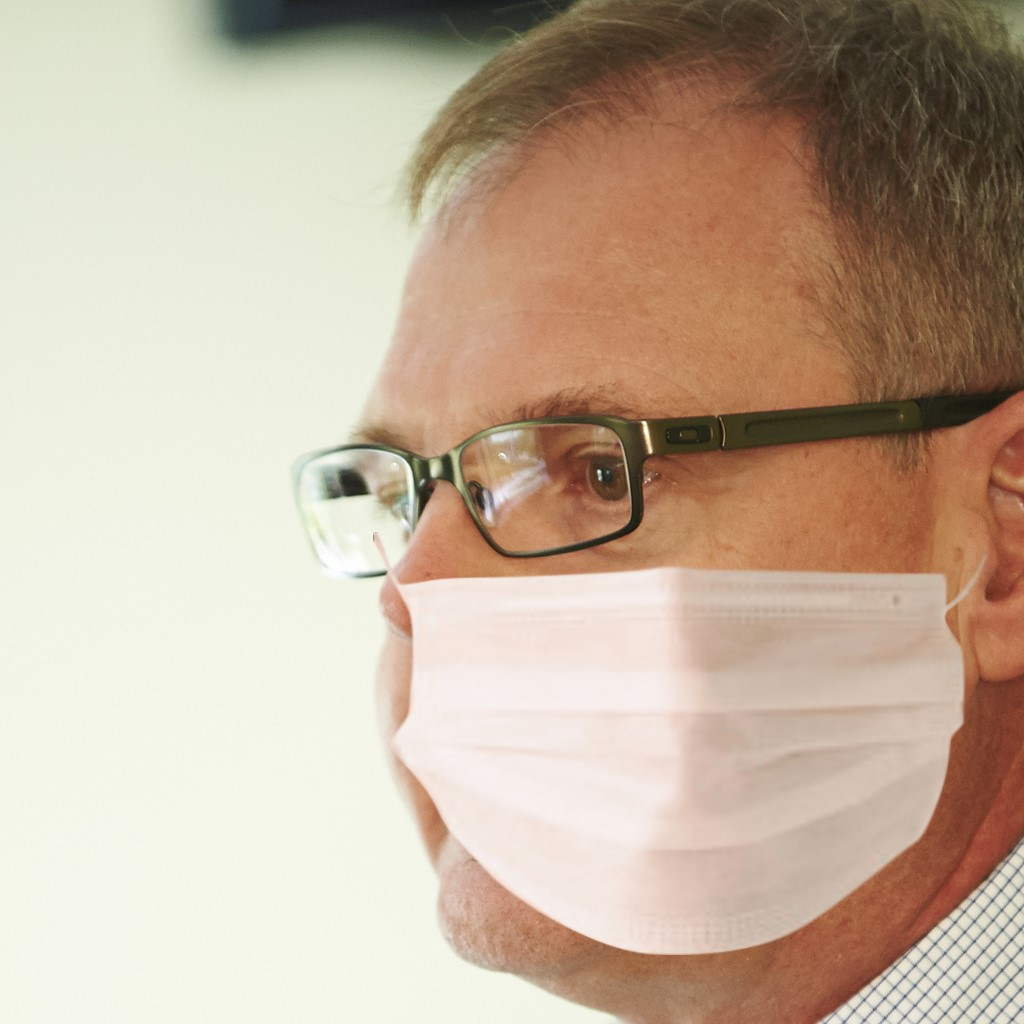con_mascara: (346, 68, 973, 994)
